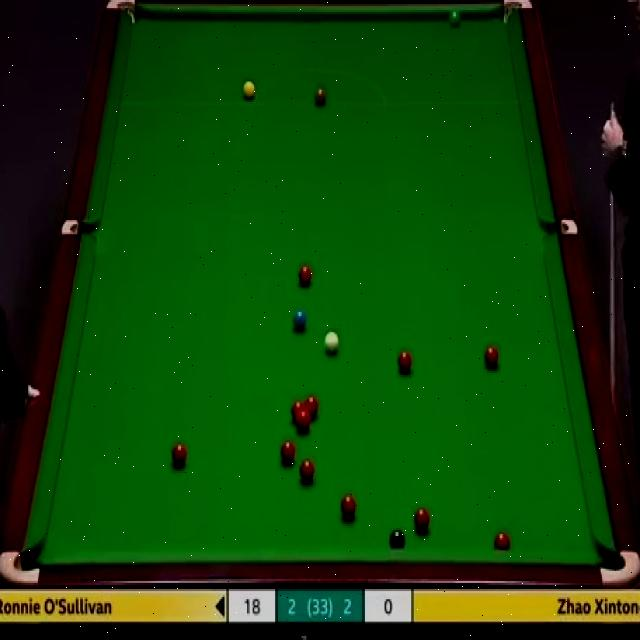black-ball: (387, 528, 405, 550)
blue-ball: (291, 308, 307, 333)
brown-ball: (312, 84, 327, 107)
green-ball: (448, 8, 464, 27)
red-ball: (412, 506, 430, 534), (298, 458, 316, 486), (397, 347, 414, 376), (338, 494, 356, 520), (279, 440, 296, 466), (298, 264, 314, 289), (172, 443, 188, 468), (484, 343, 499, 369), (494, 529, 511, 550), (305, 395, 319, 420), (297, 412, 310, 432), (292, 399, 304, 420)
white-ball: (322, 329, 340, 357)
yellow-ball: (241, 78, 255, 99)
